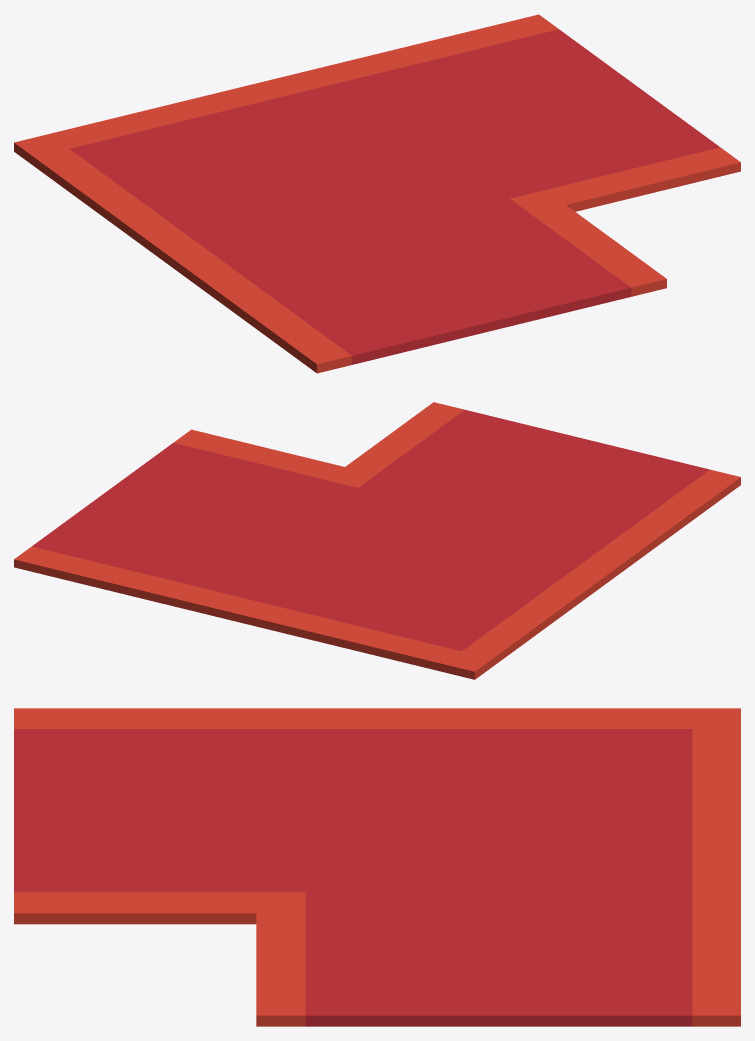
The model's file is fantasy_carpet-corner.fbx.
3 views of the same model, one above another, from view 1: azimuth 30°, elevation 25°; view 2: azimuth 150°, elevation 25°; view 3: azimuth 270°, elevation 25° (orthographic). The views are drawn at different scales.
Visible parts, largest first — view 1: fantasy_carpet_corner; view 2: fantasy_carpet_corner; view 3: fantasy_carpet_corner.
Part boxes in pixels (x1,y1,x2,y2): fantasy_carpet_corner: [14, 14, 740, 373]; fantasy_carpet_corner: [14, 402, 740, 679]; fantasy_carpet_corner: [14, 708, 740, 1026].
Size of the model in its own units: 200 by 3.33 by 200.
1 material, 1 textured.
